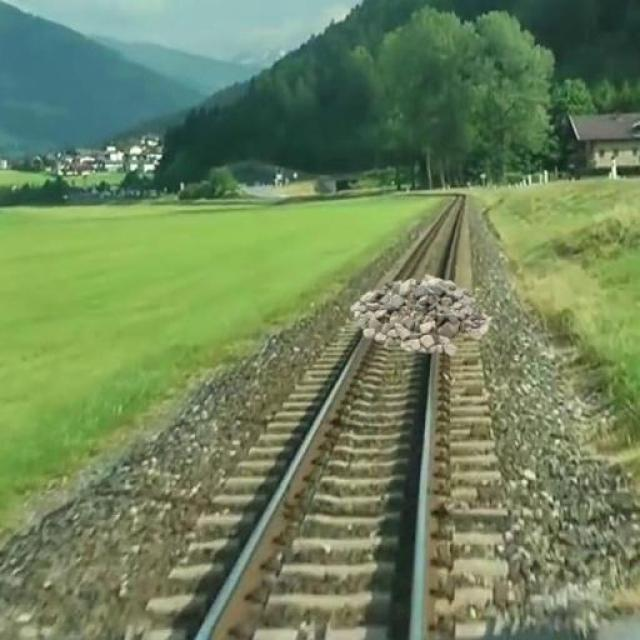Stone: (349, 272, 492, 356)
